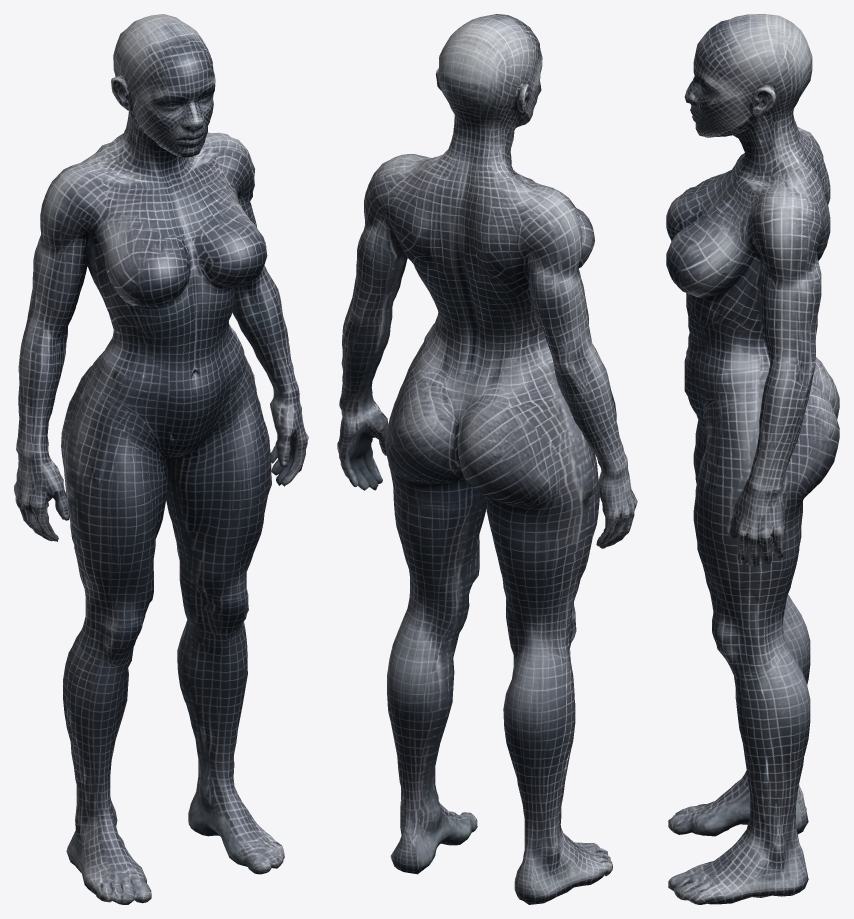
The model's file is timein-anatomy-female.glb.
3 views of the same model, side by side, from view 1: azimuth 30°, elevation 25°; view 2: azimuth 150°, elevation 25°; view 3: azimuth 270°, elevation 25° (orthographic).
Visible parts, largest first — view 1: tripo_node_bd692099-09b5-40d3-9ca3-e2dfbae3fc4f; view 2: tripo_node_bd692099-09b5-40d3-9ca3-e2dfbae3fc4f; view 3: tripo_node_bd692099-09b5-40d3-9ca3-e2dfbae3fc4f.
Boxes of the visible parts, left/top/right/bottom form: tripo_node_bd692099-09b5-40d3-9ca3-e2dfbae3fc4f: left=14, top=14, right=308, bottom=904; tripo_node_bd692099-09b5-40d3-9ca3-e2dfbae3fc4f: left=337, top=14, right=637, bottom=904; tripo_node_bd692099-09b5-40d3-9ca3-e2dfbae3fc4f: left=666, top=14, right=839, bottom=904.
Size of the model in its own units: 0.3462 by 0.9775 by 0.1817.
1 material, 1 textured.
